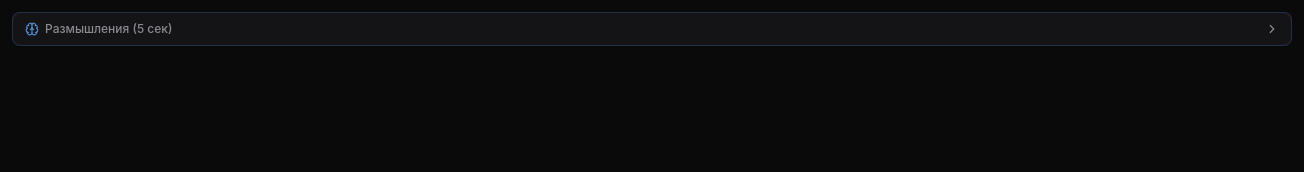
ThinkingBlock Component › renders finished reasoning card collapsed by default and expands on click
The image size is (1304, 172).
Expected: the text "Размышления (5 сек)" is shown, [45,21,172,37]
Expected: the text "План: 1. Проверить API" is not shown
// Click to toggle
What coordinates should you click on to do the following:
click the button titled "Показать размышления"
I would click on:
 (91, 28)
Its box is [13,13,1291,45].
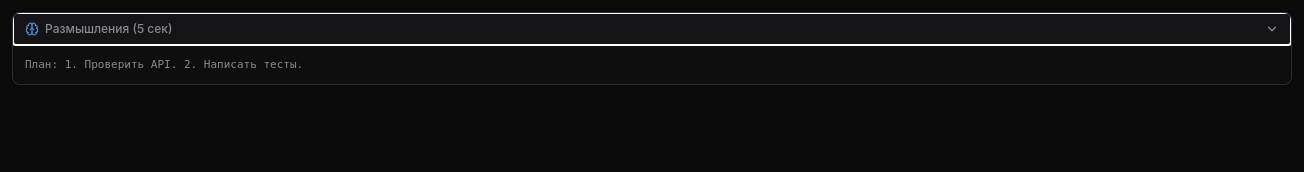
Expected: the text "План: 1. Проверить API. 2. Написать тесты." is shown, [13,45,1291,84]
// Click again to collapse
What coordinates should you click on to do the following:
click the button titled "Скрыть размышления"
I would click on:
 (91, 28)
Its box is [13,13,1291,45].
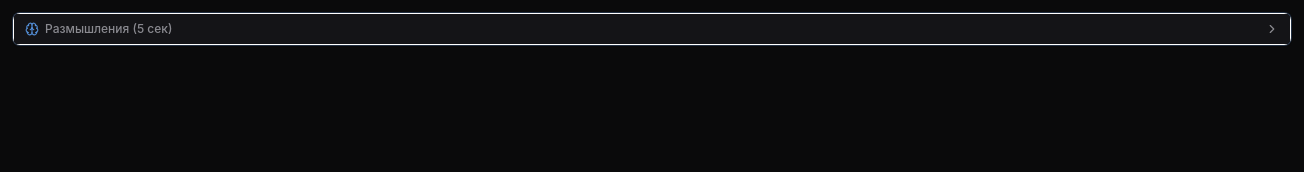
Expected: the text "План: 1. Проверить API" is gone
